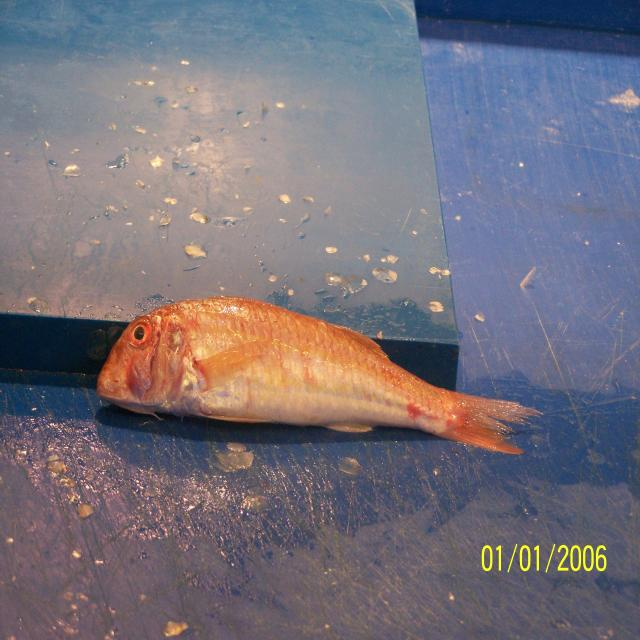Striped-Red-Mullet-tekir-: (95, 297, 530, 457)
